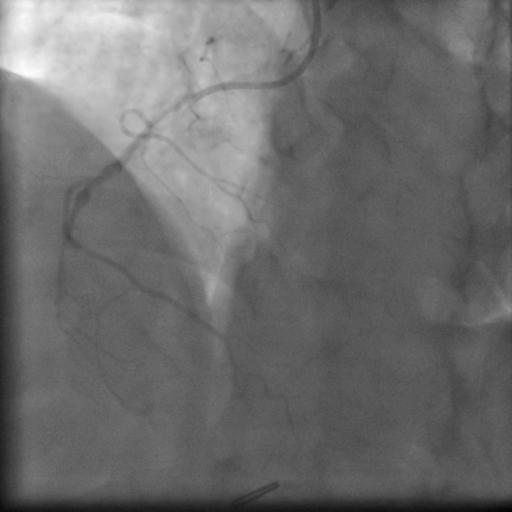Stenosis: (144, 96, 194, 126)
